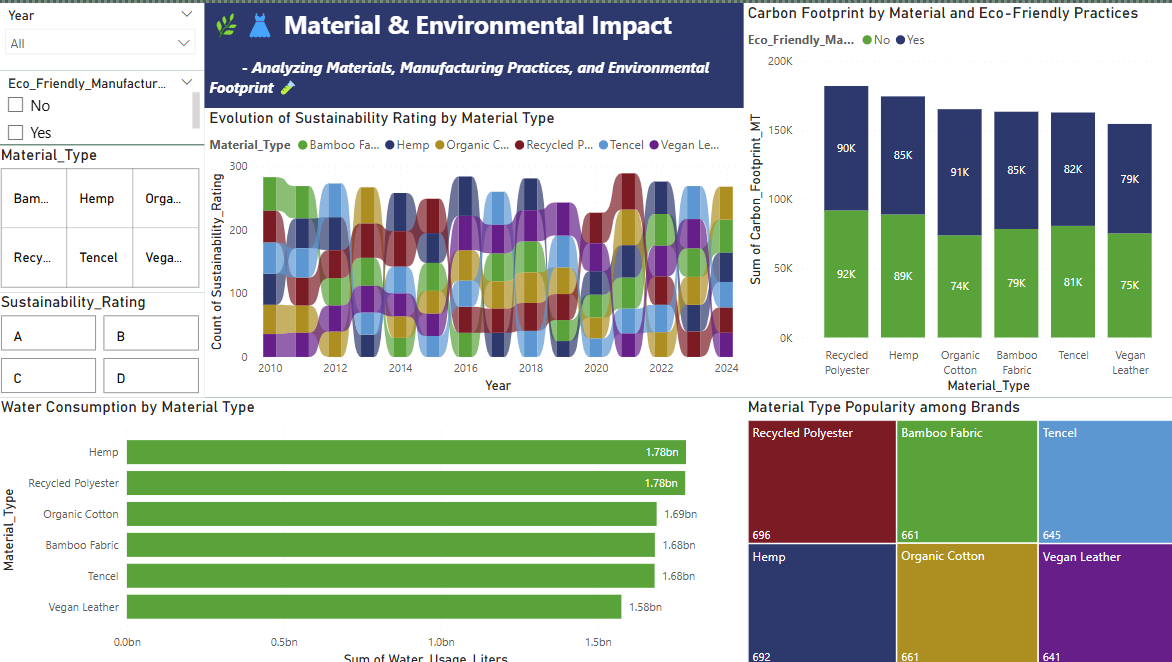

What the dashboard file says about the page in this screenshot:
{"tool":"powerbi","page":{"name":"Material and Environmental Impact","canvas":[1280,720],"ordinal":1},"visuals":[{"type":"columnChart","title":"Carbon Footprint by Material and Eco-Friendly Practices","fields":{"Category":["sustainable_fashion_trends_2024.Material_Type"],"Y":["Sum(sustainable_fashion_trends_2024.Carbon_Footprint_MT)"],"Series":["sustainable_fashion_trends_2024.Eco_Friendly_Manufacturing"]},"box":[806.9,0,472.4,425.2],"z":0},{"type":"clusteredBarChart","title":"Water Consumption by Material Type","fields":{"Category":["sustainable_fashion_trends_2024.Material_Type"],"Y":["Sum(sustainable_fashion_trends_2024.Water_Usage_Liters)"]},"box":[0,425.9,806.4,294.7],"z":1000},{"type":"treemap","title":"Material Type Popularity among Brands","fields":{"Group":["sustainable_fashion_trends_2024.Material_Type"],"Values":["CountNonNull(sustainable_fashion_trends_2024.Brand_Name)"]},"box":[806.9,425.2,472.4,294.8],"z":2000},{"type":"ribbonChart","title":"Evolution of Sustainability Rating by Material Type","fields":{"Category":["sustainable_fashion_trends_2024.Year"],"Y":["CountNonNull(sustainable_fashion_trends_2024.Sustainability_Rating)"],"Series":["sustainable_fashion_trends_2024.Material_Type"]},"box":[224.9,113.4,582.1,311.8],"z":3000},{"type":"slicer","fields":{"Values":["sustainable_fashion_trends_2024.Year"]},"box":[0,0,225.1,72.9],"z":4000},{"type":"advancedSlicerVisual","fields":{"Values":["sustainable_fashion_trends_2024.Material_Type"]},"box":[0,153.8,225.1,158.7],"z":5000},{"type":"slicer","fields":{"Values":["sustainable_fashion_trends_2024.Eco_Friendly_Manufacturing"]},"box":[0,72.9,225.1,79.3],"z":6000},{"type":"advancedSlicerVisual","fields":{"Values":["sustainable_fashion_trends_2024.Sustainability_Rating"]},"box":[0,312.5,225.1,113.3],"z":7000},{"type":"textbox","box":[224.9,0,582.1,113.4],"z":8000}]}

Visuals, with their boxes in screenshot pixels (x1, y1, x2, y2), scaled from the page's 1280x720 canvas onto the 1172x662 screenshot:
"Carbon Footprint by Material and Eco-Friendly Practices" columnChart: locate(739, 0, 1171, 391)
"Water Consumption by Material Type" clusteredBarChart: locate(0, 392, 738, 661)
"Material Type Popularity among Brands" treemap: locate(739, 391, 1171, 661)
"Evolution of Sustainability Rating by Material Type" ribbonChart: locate(206, 104, 739, 391)
slicer - sustainable_fashion_trends_2024.Year: locate(0, 0, 206, 67)
advancedSlicerVisual - sustainable_fashion_trends_2024.Material_Type: locate(0, 141, 206, 287)
slicer - sustainable_fashion_trends_2024.Eco_Friendly_Manufacturing: locate(0, 67, 206, 140)
advancedSlicerVisual - sustainable_fashion_trends_2024.Sustainability_Rating: locate(0, 287, 206, 391)
textbox: locate(206, 0, 739, 104)
